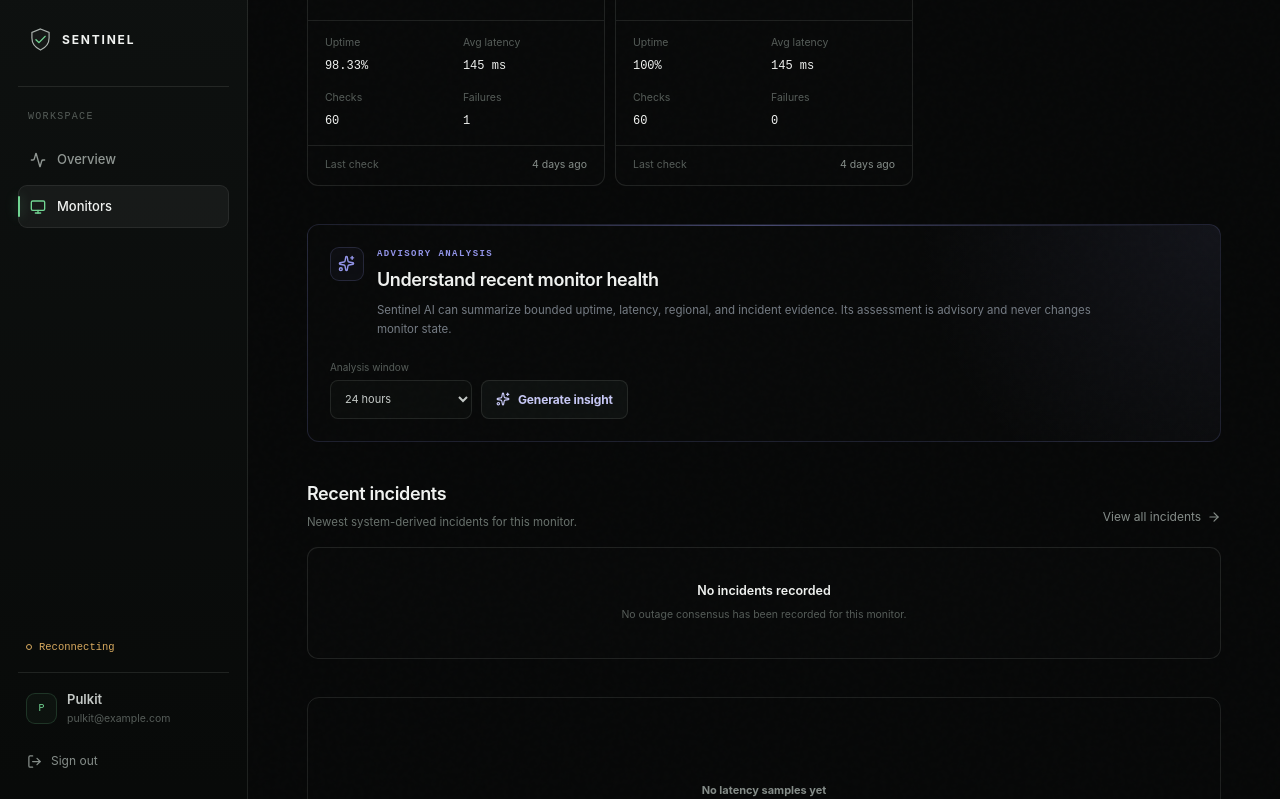
it: bounded AI monitor insight › renders generated text as text rather than executable HTML
This screenshot has width=1280, height=799.
(page scrolled)
Expected: the heading "Understand recent monitor health" is shown, [377, 269, 659, 290]
Click the button "Generate insight" at (554, 399), box [481, 380, 628, 419]
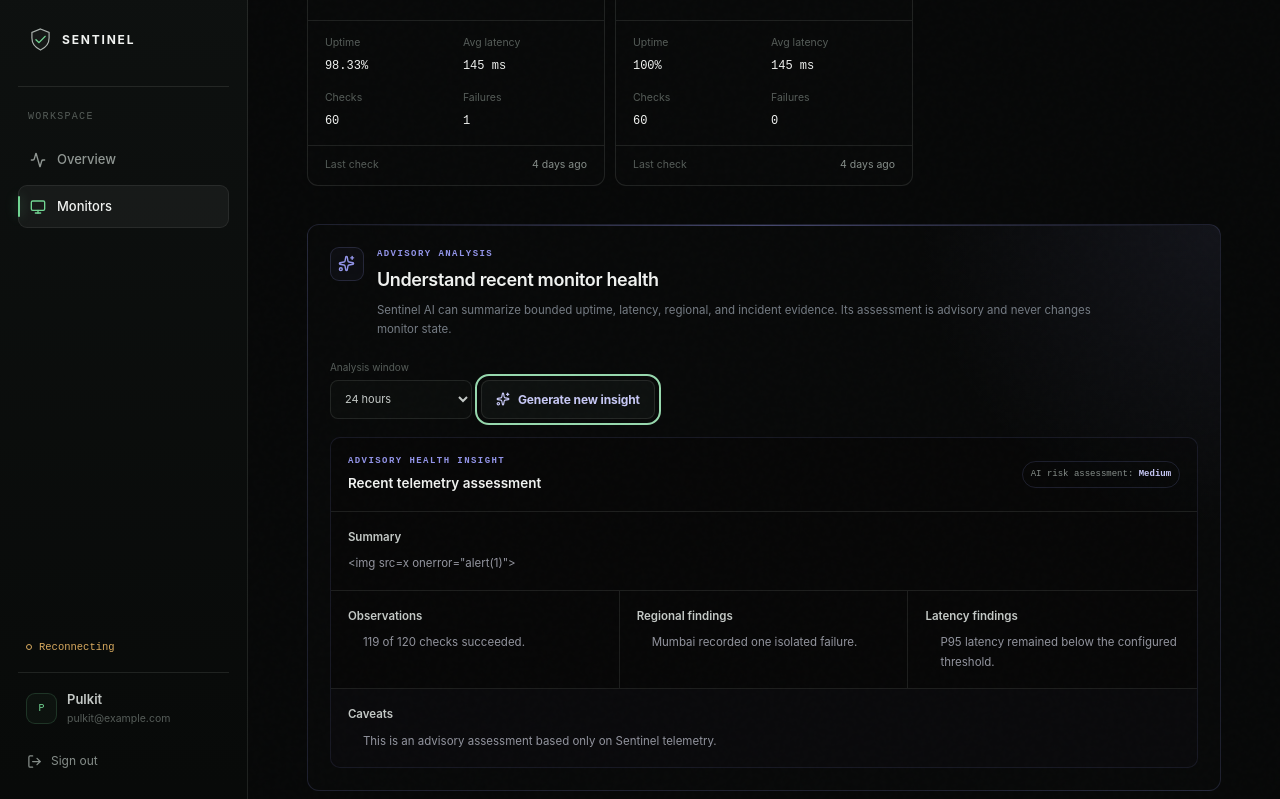
Expected: the text "<img src=x onerror=\"alert(1)\">" is shown, [348, 556, 516, 570]
